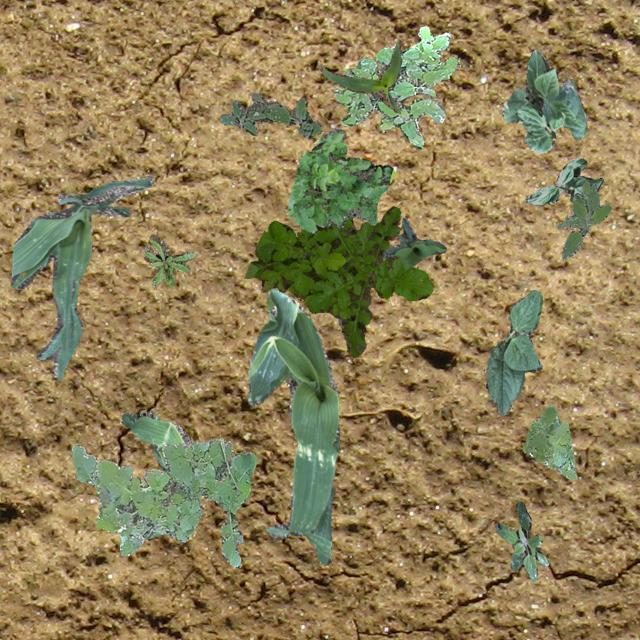crop: (9, 175, 152, 378), (246, 287, 338, 564), (500, 49, 586, 152), (120, 412, 190, 538), (484, 288, 542, 414), (318, 40, 402, 112), (524, 156, 602, 204), (380, 217, 446, 270)
weed: (244, 206, 432, 356), (70, 436, 256, 566), (332, 24, 457, 150), (286, 128, 394, 232), (218, 91, 320, 138), (493, 500, 548, 580), (554, 180, 610, 258), (522, 404, 576, 478), (142, 232, 194, 286)
